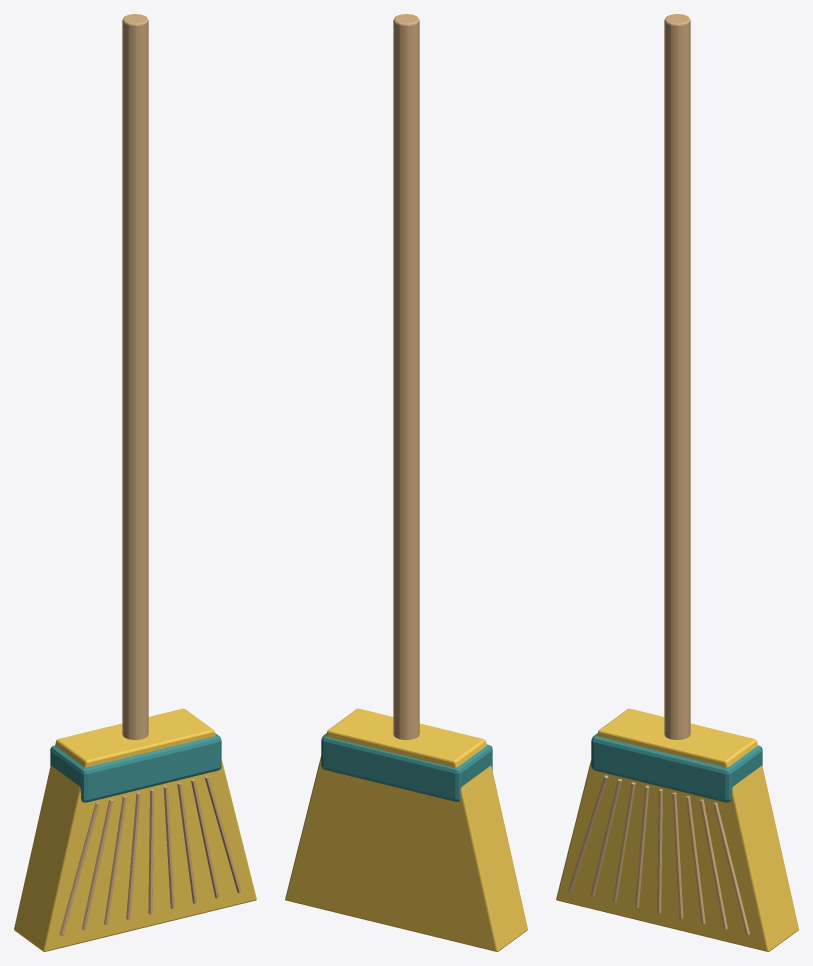
Rendered from P046_broom.glb.
3 renders of one model, left to right at view 1: azimuth 30°, elevation 25°; view 2: azimuth 150°, elevation 25°; view 3: azimuth 330°, elevation 25°, orthographic.
Visible parts, largest first — view 1: P046_bristles_002, P046_handle_001, P046_binding_003, P046_fiber_004, P046_fiber_005, P046_fiber_006, P046_fiber_007, P046_fiber_012, P046_fiber_009, P046_fiber_011, P046_fiber_008, P046_fiber_010; view 2: P046_bristles_002, P046_handle_001, P046_binding_003; view 3: P046_bristles_002, P046_handle_001, P046_binding_003, P046_fiber_012, P046_fiber_011, P046_fiber_010, P046_fiber_009, P046_fiber_008, P046_fiber_004, P046_fiber_005, P046_fiber_006, P046_fiber_007.
Part boxes in pixels (box(x1,y1,x2,y2)): P046_bristles_002: box(14, 708, 256, 951); P046_handle_001: box(122, 14, 148, 739); P046_binding_003: box(50, 733, 221, 802); P046_fiber_004: box(59, 802, 99, 935); P046_fiber_005: box(81, 799, 113, 930); P046_fiber_006: box(104, 795, 126, 924); P046_fiber_007: box(126, 792, 140, 919); P046_fiber_012: box(204, 775, 241, 892); P046_fiber_009: box(163, 785, 174, 908); P046_fiber_011: box(191, 779, 219, 898); P046_fiber_008: box(148, 789, 154, 914); P046_fiber_010: box(177, 782, 196, 903); P046_bristles_002: box(285, 708, 527, 951); P046_handle_001: box(393, 14, 419, 739); P046_binding_003: box(321, 733, 492, 801); P046_bristles_002: box(556, 708, 798, 951); P046_handle_001: box(664, 14, 690, 739); P046_binding_003: box(591, 733, 762, 802); P046_fiber_012: box(713, 802, 749, 934); P046_fiber_011: box(699, 799, 727, 929); P046_fiber_010: box(686, 795, 705, 924); P046_fiber_009: box(672, 792, 683, 918); P046_fiber_008: box(657, 789, 662, 913); P046_fiber_004: box(568, 775, 608, 891); P046_fiber_005: box(590, 779, 621, 897); P046_fiber_006: box(612, 782, 635, 902); P046_fiber_007: box(635, 785, 649, 908).
Size of the model in its own units: 0.259 by 1.04 by 0.074.
